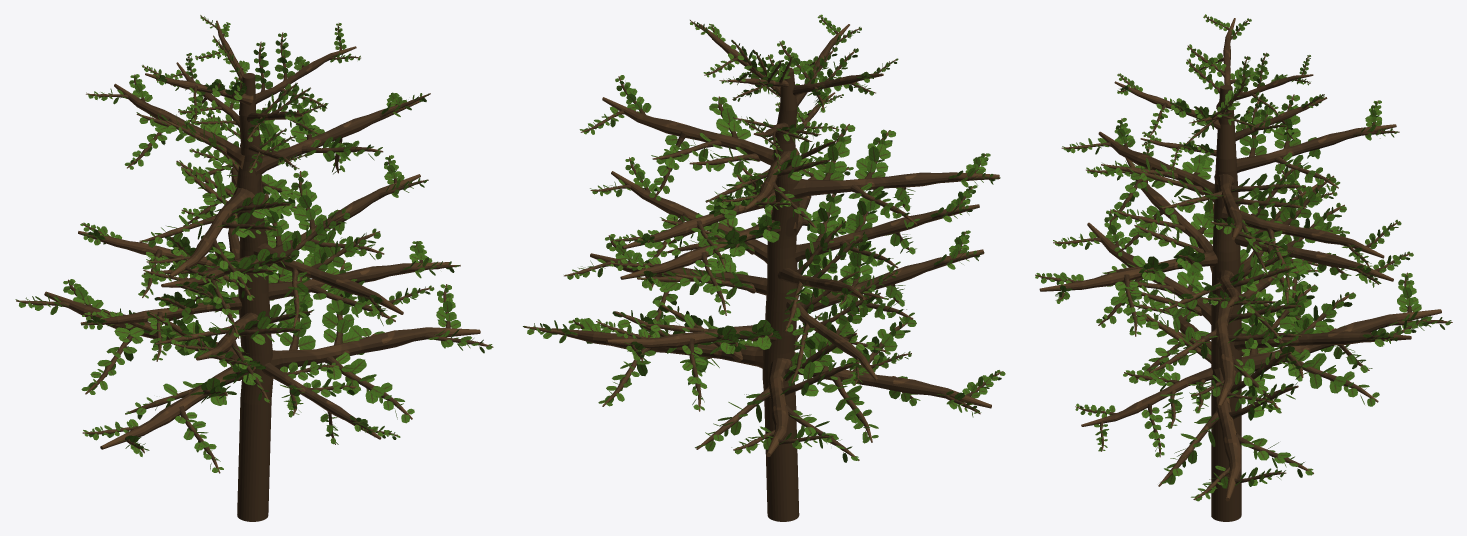
The model's file is Tree.fbx.
3 views of the same model, side by side, from view 1: azimuth 30°, elevation 25°; view 2: azimuth 150°, elevation 25°; view 3: azimuth 270°, elevation 25° (orthographic). The views are drawn at different scales.
Visible parts, largest first — view 1: Tree; view 2: Tree; view 3: Tree.
Boxes of the visible parts, x1,y1,x2,y2 form: Tree: (15,15,493,521); Tree: (523,14,1005,521); Tree: (1035,14,1452,521).
Size of the model in its own units: 1518 by 1662 by 1379.
Materials: 3 (3 with a texture image).
